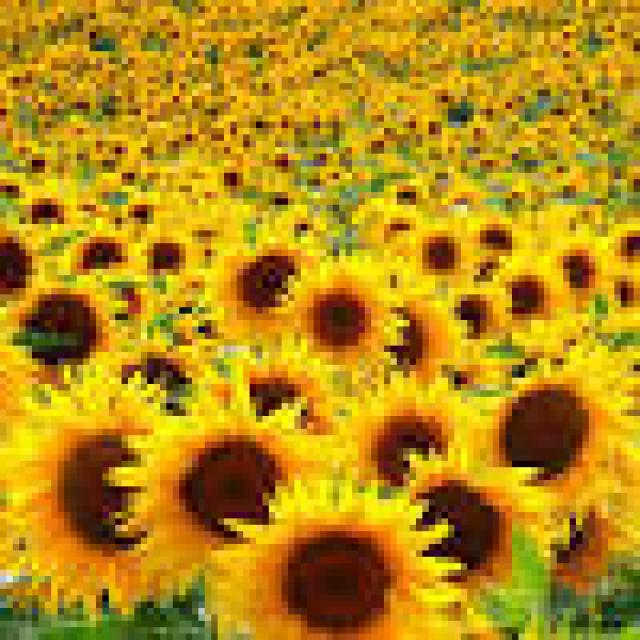sunflower: (214, 480, 464, 640), (16, 378, 176, 588), (243, 250, 422, 364), (0, 269, 128, 371), (496, 254, 565, 338)
